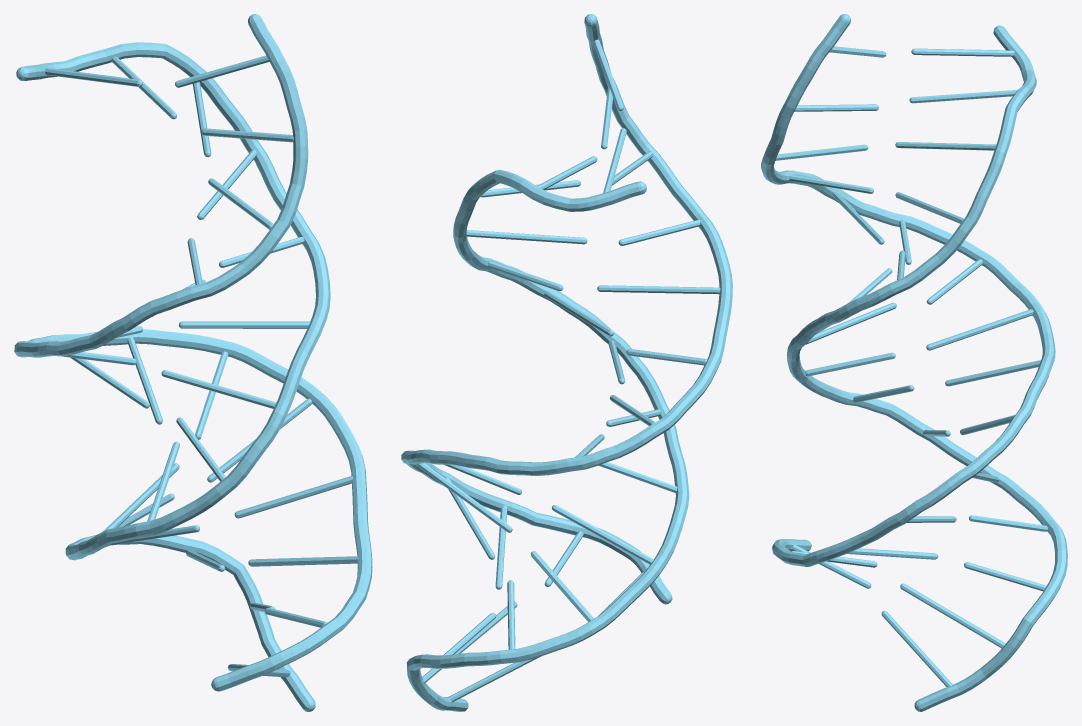
The model's file is dna2.glb.
3 renders of one model, left to right at view 1: azimuth 30°, elevation 25°; view 2: azimuth 150°, elevation 25°; view 3: azimuth 270°, elevation 25°, orthographic. The views are drawn at different scales.
Parts seen in each view (by area): view 1: dna; view 2: dna; view 3: dna.
Boxes of the visible parts, left/top/right/bottom form: dna: left=14, top=14, right=372, bottom=711; dna: left=401, top=14, right=732, bottom=711; dna: left=761, top=14, right=1067, bottom=711.
Bounding box in the file's own units: 2.46 × 5.54 × 2.35.
